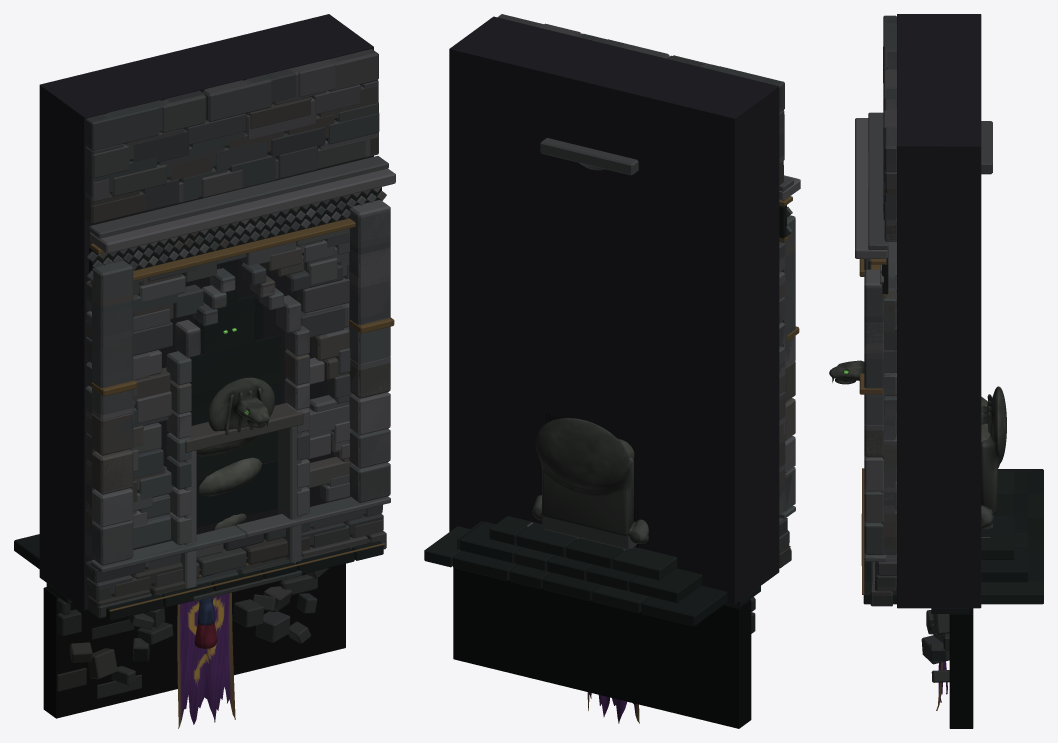
File: env_stage5_kit.glb
The picture shows the model from 3 angles, left to right: view 1: azimuth 30°, elevation 25°; view 2: azimuth 150°, elevation 25°; view 3: azimuth 270°, elevation 25°; orthographic projection. The views are drawn at different scales.
Parts seen in each view (by area): view 1: wall, wall_door, ledge, banner, throne, pillar, pillar_lo, wall_lo; view 2: wall, ledge, throne, wall_door, pillar, pillar_lo; view 3: wall, throne, wall_door, ledge, pillar, pillar_lo, wall_lo.
Boxes of the visible parts, x1,y1,x2,y2 form: wall: (39, 14, 395, 618); wall_door: (85, 49, 390, 611); ledge: (43, 563, 345, 718); banner: (177, 592, 235, 728); throne: (14, 534, 385, 620); pillar: (196, 377, 274, 529); pillar_lo: (196, 377, 274, 529); wall_lo: (86, 53, 395, 618); wall: (449, 14, 800, 604); ledge: (453, 568, 760, 728); throne: (424, 418, 790, 626); wall_door: (498, 14, 795, 568); pillar: (540, 138, 638, 458); pillar_lo: (540, 138, 638, 459); wall: (855, 14, 981, 608); throne: (862, 386, 1043, 604); wall_door: (861, 15, 896, 606); ledge: (921, 608, 973, 728); pillar: (829, 121, 992, 440); pillar_lo: (830, 121, 992, 441); wall_lo: (855, 16, 941, 606).
Bounding box in the file's own units: 8.24 × 17.4 × 5.48.
